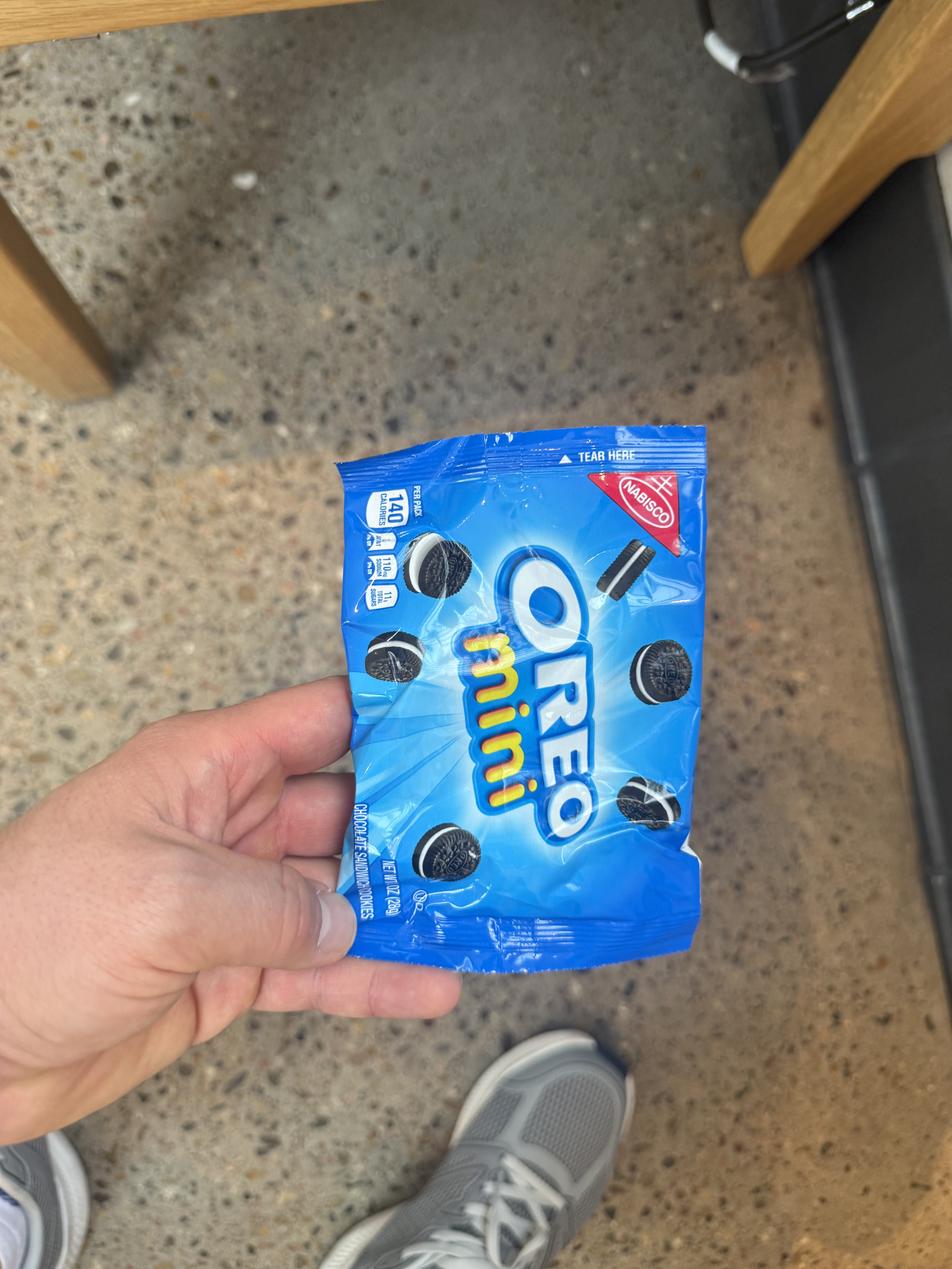oreo_mini: (337, 438, 704, 973)
